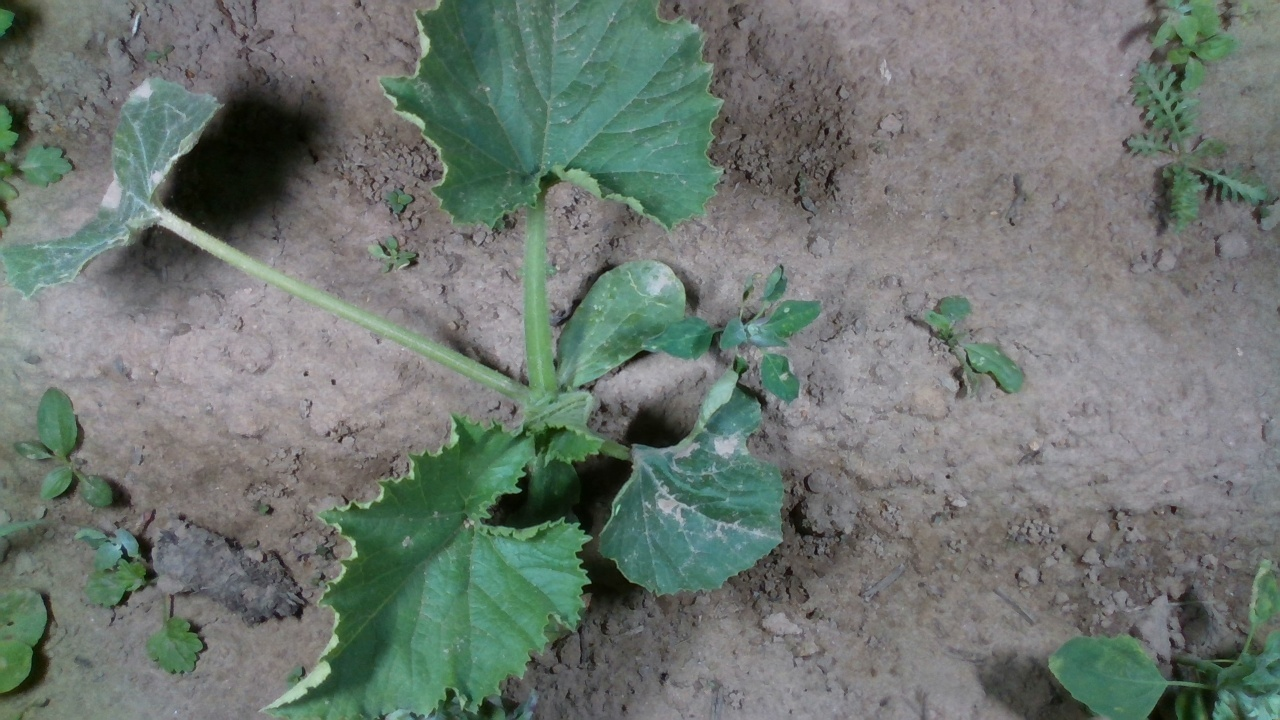weed: (250, 498, 277, 518)
